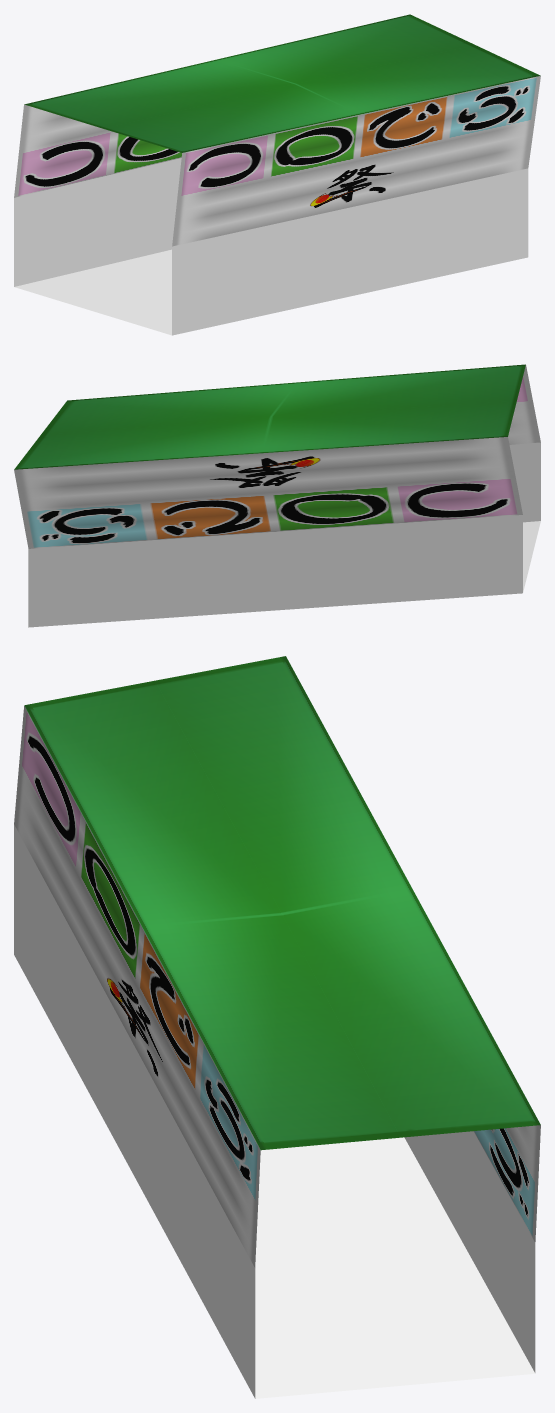
File: CourseWinter_Wall_L_4_4.fbx
3 renders of one model, top to bottom at view 1: azimuth 30°, elevation 25°; view 2: azimuth 150°, elevation 25°; view 3: azimuth 270°, elevation 25°, orthographic. The views are drawn at different scales.
Parts seen in each view (by area): view 1: polySurface468; view 2: polySurface468; view 3: polySurface468.
Part boxes in pixels (x1,y1,x2,y2): polySurface468: (14, 14, 540, 335); polySurface468: (14, 364, 540, 627); polySurface468: (14, 656, 540, 1398).
Bounding box in the file's own units: 6.13 × 2.98 × 3.66.
Materials: 1 (1 with a texture image).
